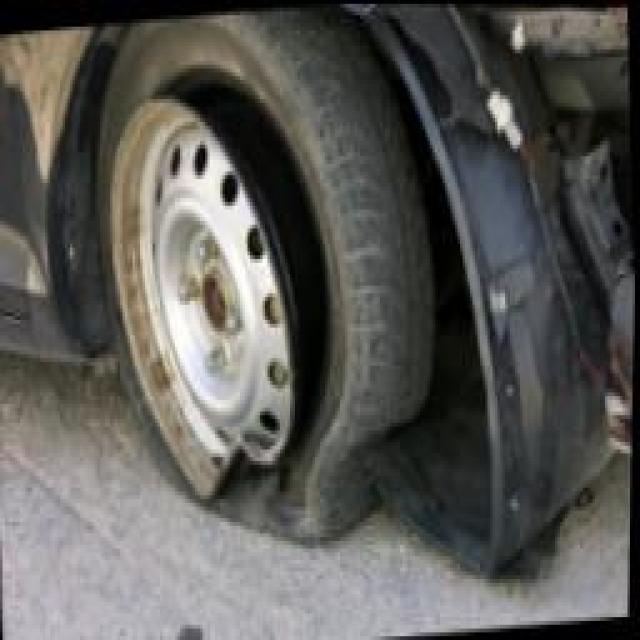Bumper: (408, 4, 640, 537)
